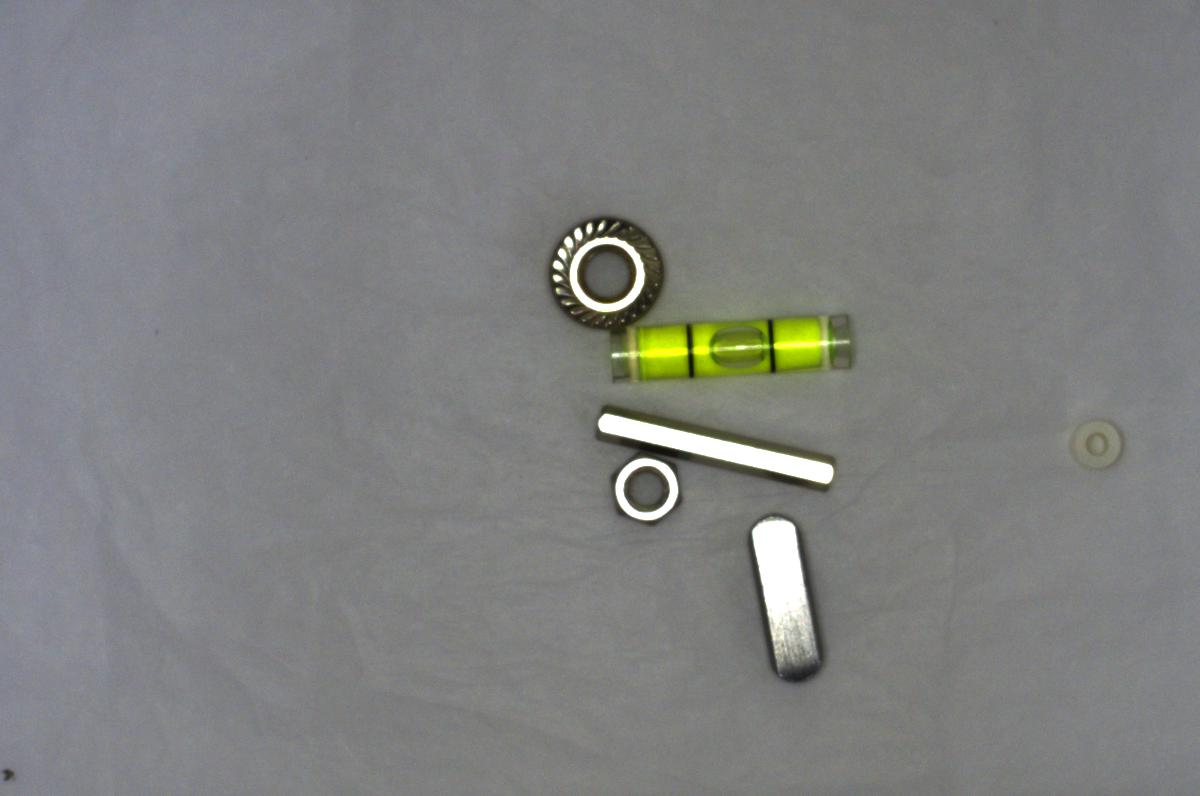Double hexagonal column: (579, 395, 848, 496)
Flange nut: (538, 204, 674, 337)
Hexagon nut: (602, 445, 691, 537)
Horizontal bubble: (596, 300, 864, 389)
Keybar: (744, 503, 828, 689)
Plastic cushion pillar: (1061, 408, 1135, 477)
